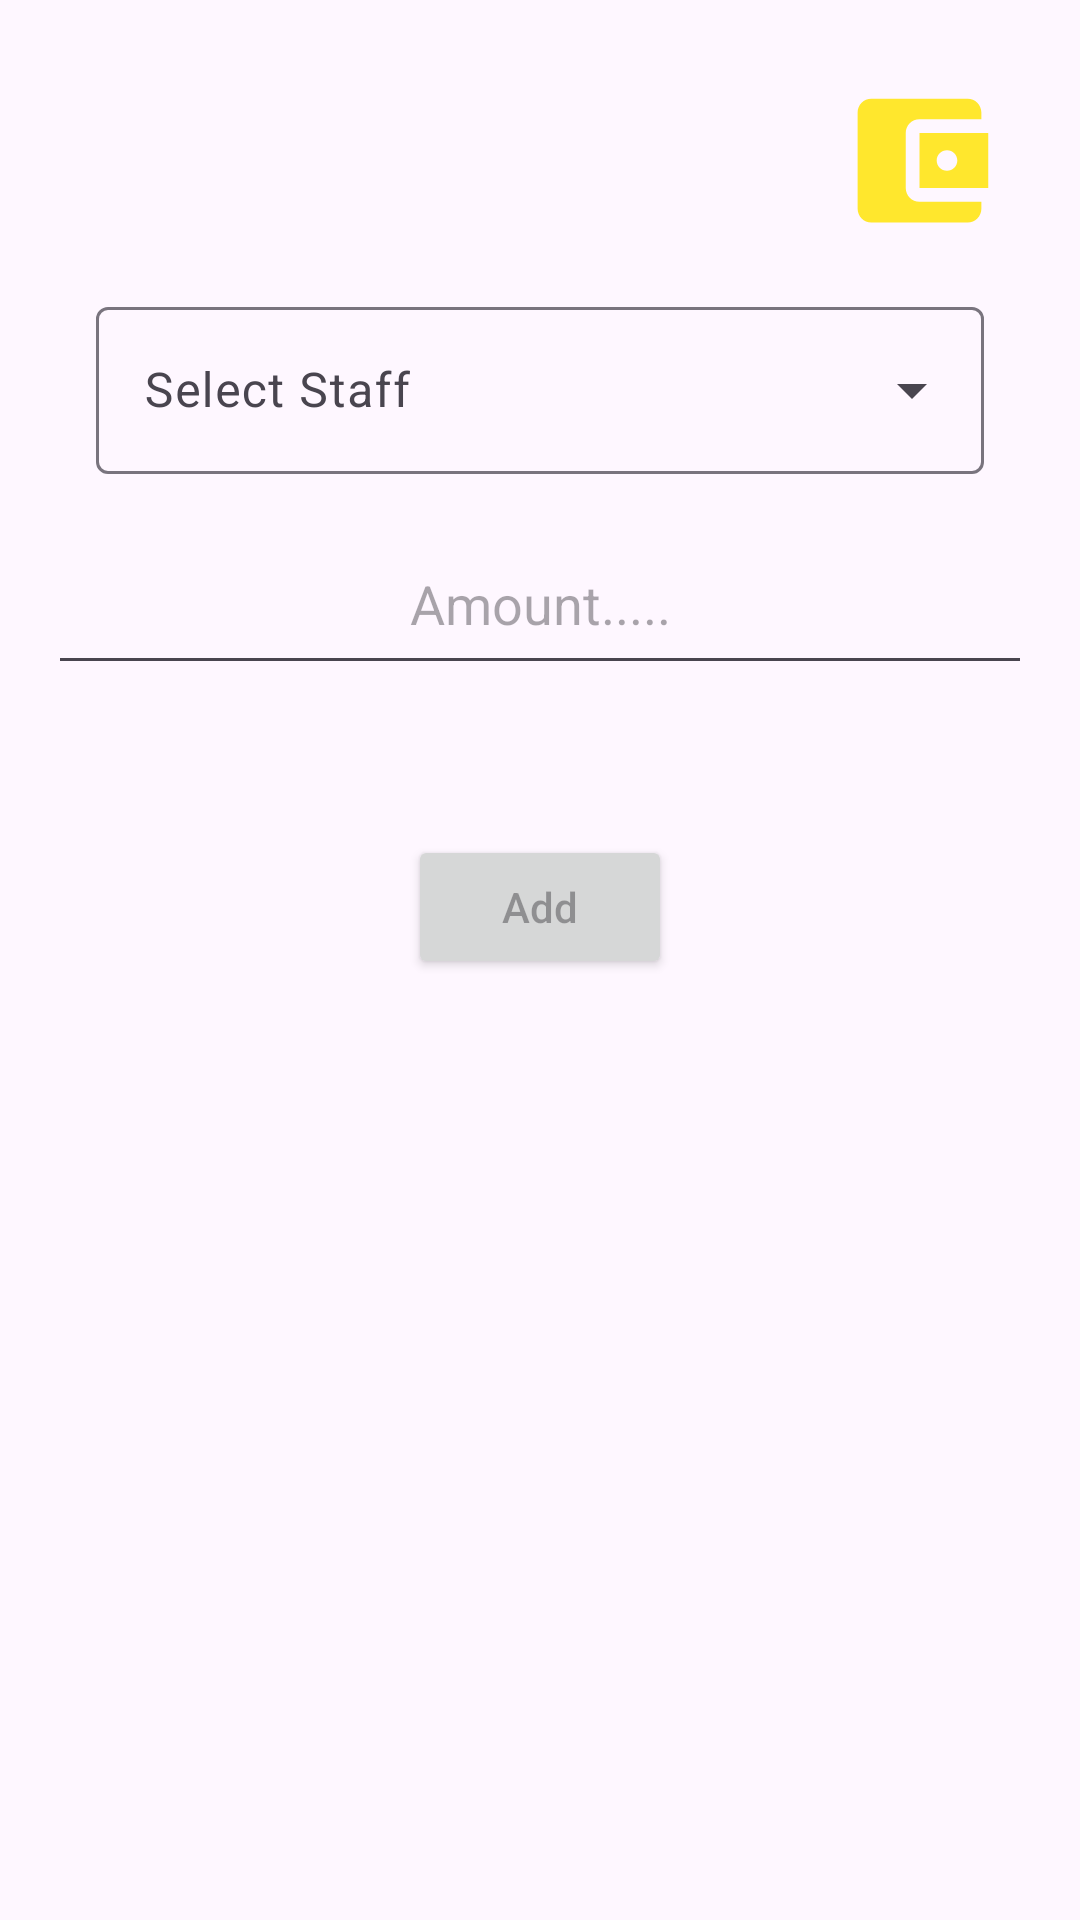

Locate icon controls on the screen. Image size 1080*1920, boxes as bbox=(x1, y1, x2, y2).
account balance wallet: bbox=(857, 98, 989, 223)
